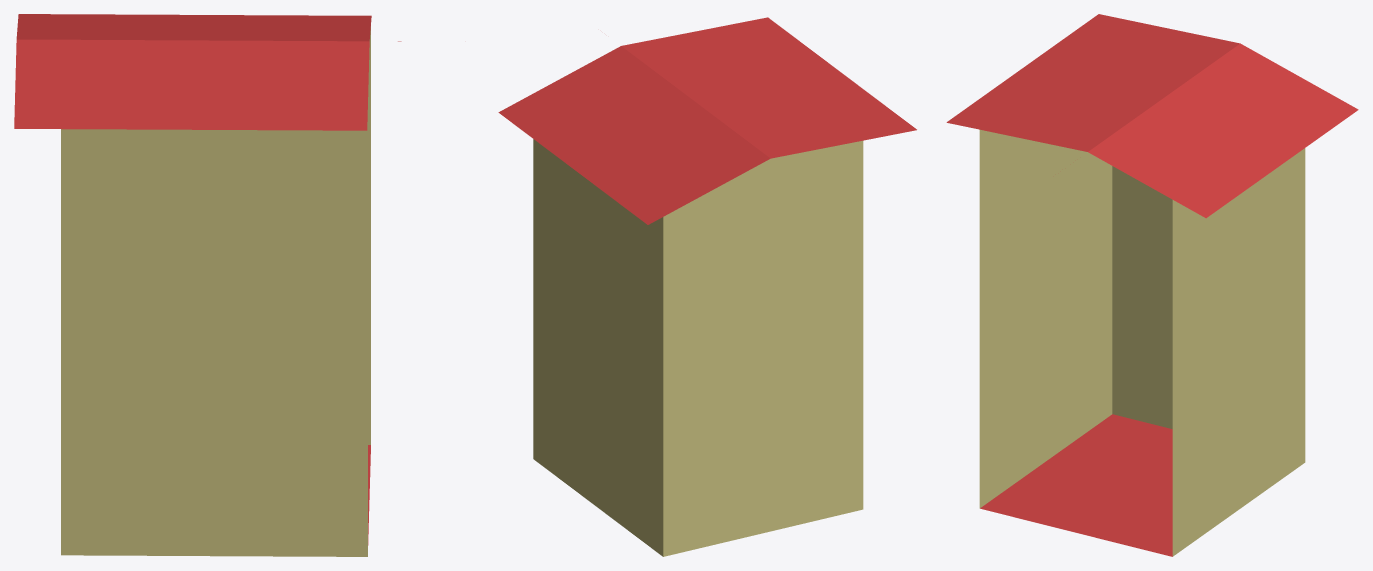
The picture shows the model from 3 angles, left to right: view 1: azimuth 30°, elevation 25°; view 2: azimuth 150°, elevation 25°; view 3: azimuth 270°, elevation 25°; orthographic projection. The views are drawn at different scales.
Visible parts, largest first — view 1: group_5, group_3, group_4; view 2: group_5, group_3, group_4; view 3: group_5, group_3, group_6, group_4.
Part boxes in pixels (x1,y1,x2,y2): group_5: [61, 26, 370, 556]; group_3: [14, 14, 401, 130]; group_4: [17, 16, 370, 130]; group_5: [533, 139, 863, 556]; group_3: [498, 17, 916, 224]; group_4: [501, 17, 916, 183]; group_5: [979, 129, 1305, 556]; group_3: [946, 14, 1358, 218]; group_6: [980, 414, 1172, 556]; group_4: [950, 14, 1301, 217].
Size of the model in its own units: 7.94 by 7.91 by 8.11.
